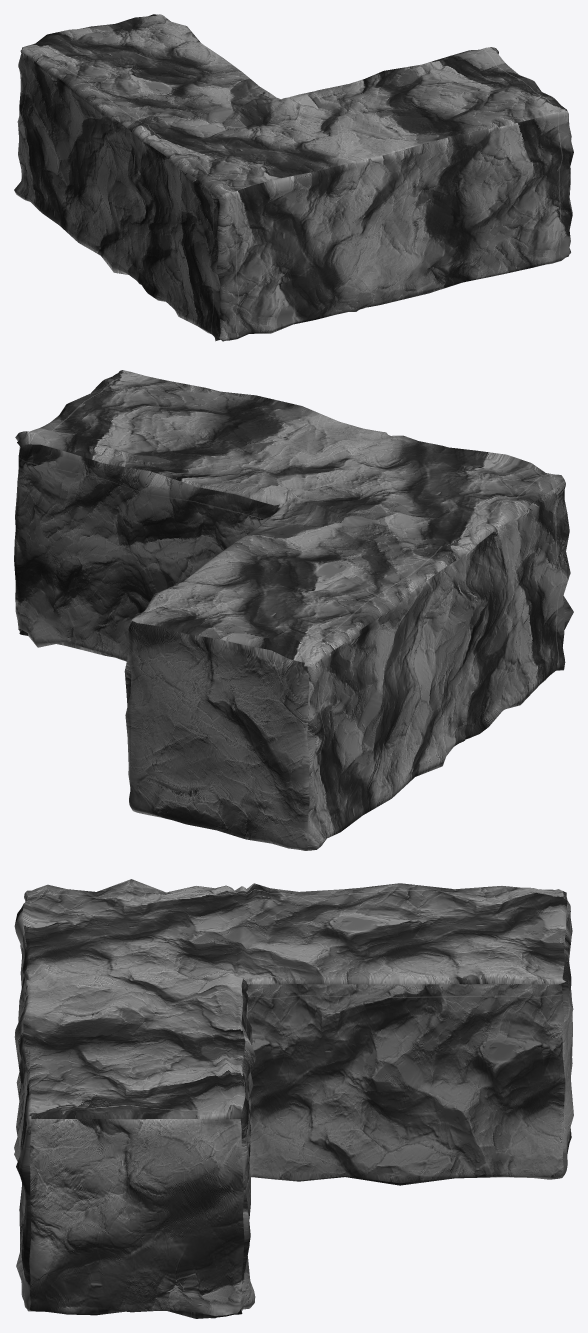
Rendered from Corner_Export_10_27.fbx.
3 renders of one model, top to bottom at view 1: azimuth 30°, elevation 25°; view 2: azimuth 150°, elevation 25°; view 3: azimuth 270°, elevation 25°, orthographic. The views are drawn at different scales.
Visible parts, largest first — view 1: pCube4; view 2: pCube4; view 3: pCube4.
Part boxes in pixels (x1,y1,x2,y2): pCube4: (14, 14, 573, 341); pCube4: (14, 370, 573, 850); pCube4: (14, 879, 573, 1318).
Size of the model in its own units: 36.54 by 15.91 by 36.48.
1 material, 1 textured.
